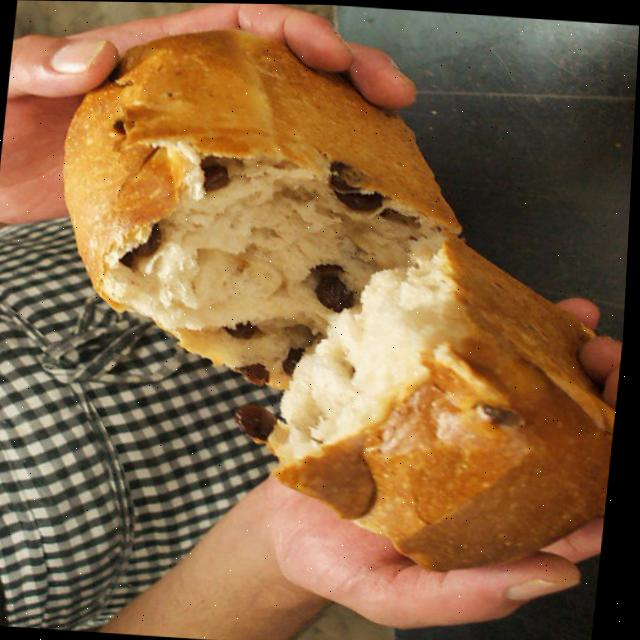面包点心: (35, 1, 640, 606)
